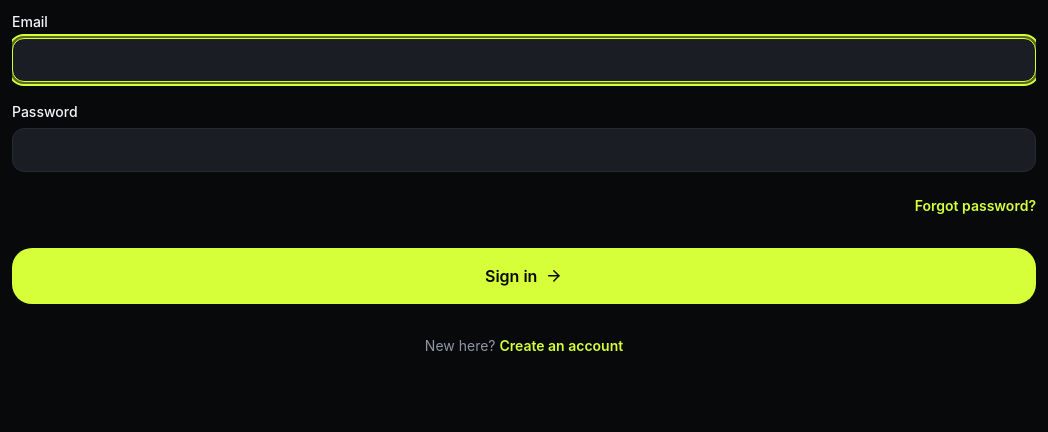
Test: LoginForm › reports a network failure
In the field labelled "Email": [524, 60] box [12,38,1036,82], type "runner@example.com"
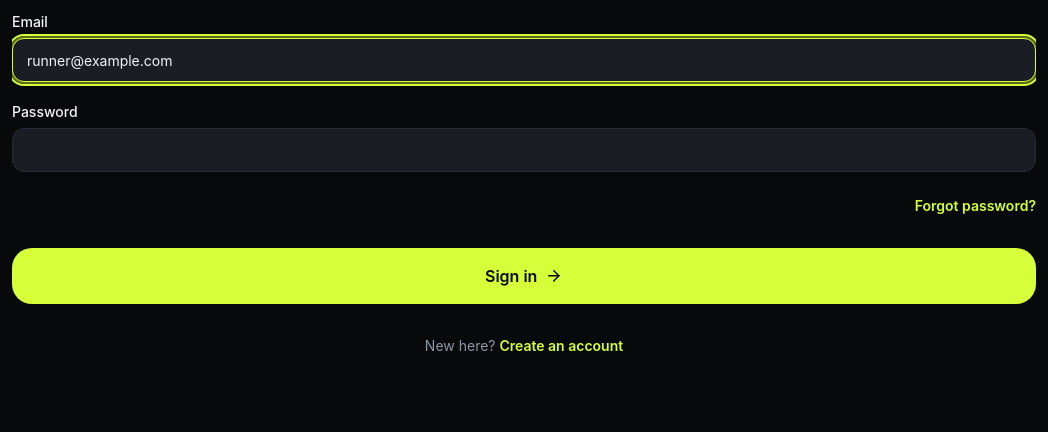
In the password field labelled "Password": [524, 150] box [12,128,1036,172], type "nope"
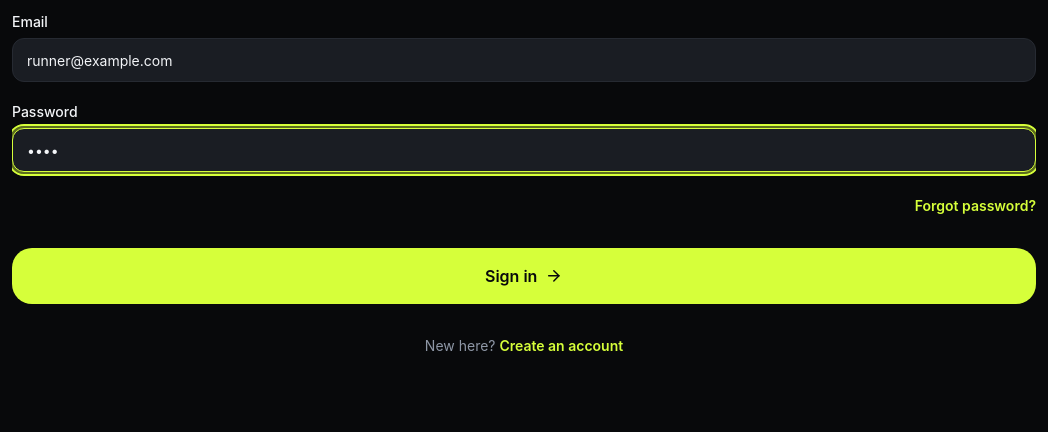
Click the button "Sign in": [524, 276] box [12,248,1036,304]
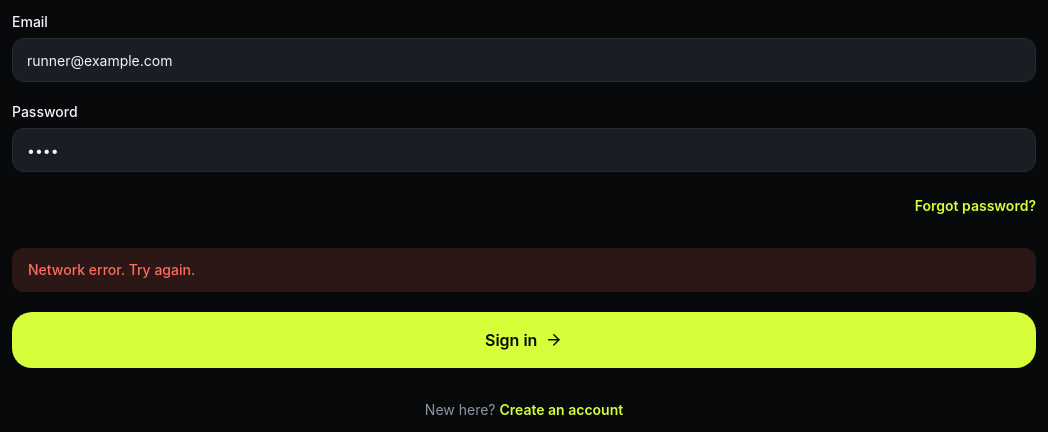
Expected: the message reads "Network error. Try again.", [28,261,195,278]
